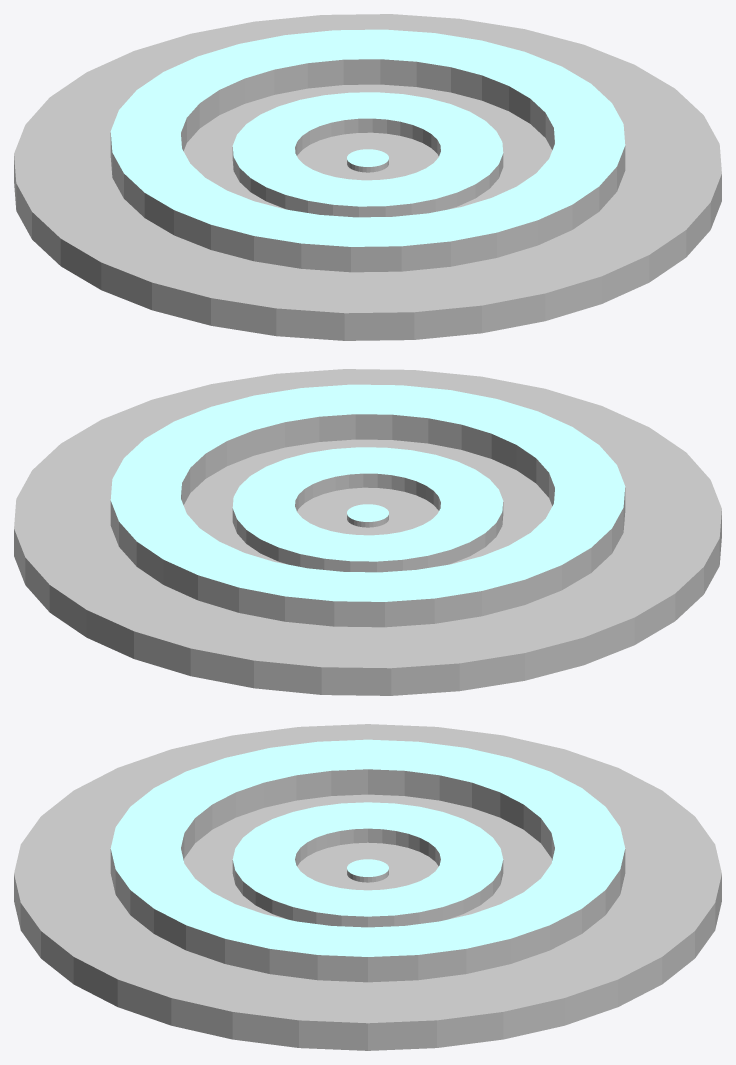
File: ringmodel1.fbx
The picture shows the model from 3 angles, top to bottom: view 1: azimuth 30°, elevation 25°; view 2: azimuth 150°, elevation 25°; view 3: azimuth 270°, elevation 25°; orthographic projection.
Parts seen in each view (by area): view 1: Cylinder; view 2: Cylinder; view 3: Cylinder.
Boxes of the visible parts, bbox=[...] form: Cylinder: bbox=[14, 14, 721, 340]; Cylinder: bbox=[14, 369, 721, 695]; Cylinder: bbox=[14, 724, 721, 1050].
Size of what is drawn, in the model's own units: 200 by 16.51 by 200.
